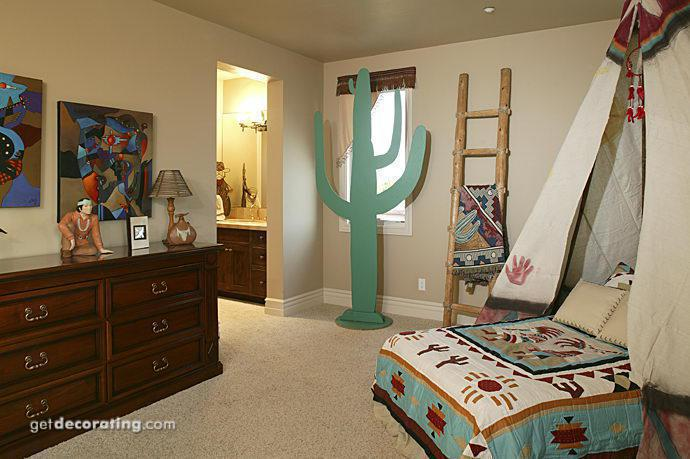Armario: (3, 260, 218, 383)
Cama: (375, 274, 642, 448)
Otro Obstaculo: (316, 77, 430, 321), (438, 76, 512, 318)
